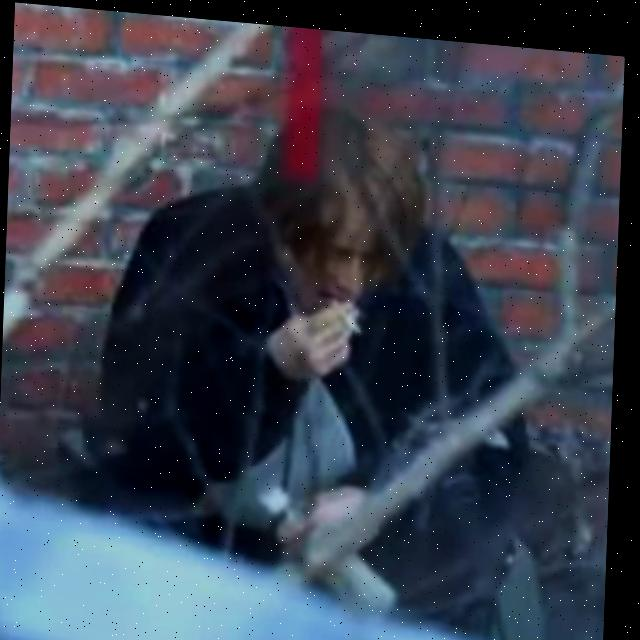cigarette: (331, 292, 365, 328)
